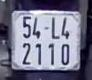0: (60, 41, 70, 67)
1: (35, 42, 43, 66), (48, 42, 55, 65)
2: (21, 42, 32, 65)
4: (61, 16, 70, 40), (33, 15, 41, 39)
5: (21, 14, 33, 39)
L: (50, 14, 60, 39)
